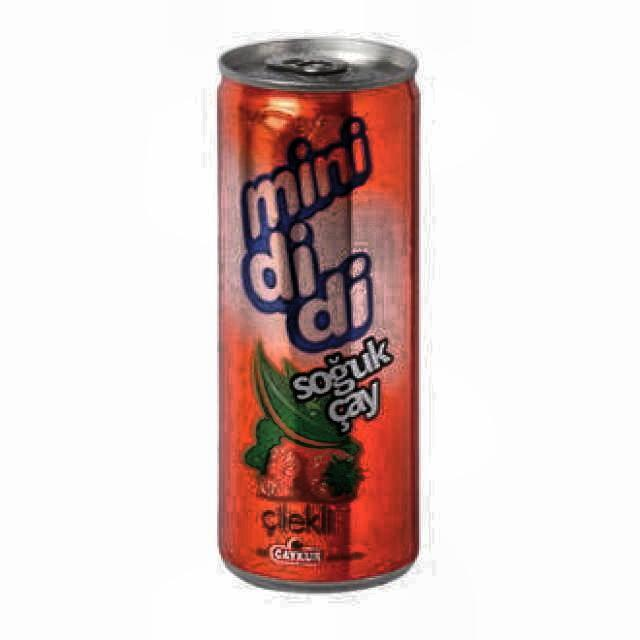metal: (216, 36, 421, 595)
